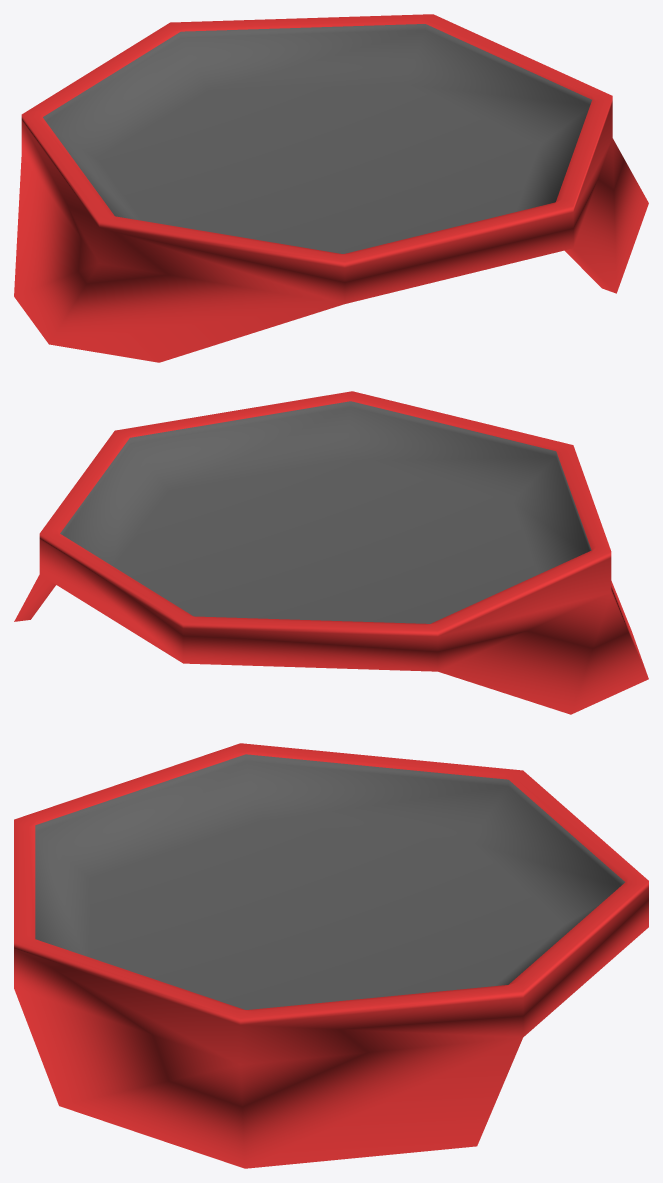
File: Batut.fbx
3 renders of one model, top to bottom at view 1: azimuth 30°, elevation 25°; view 2: azimuth 150°, elevation 25°; view 3: azimuth 270°, elevation 25°, orthographic. The views are drawn at different scales.
Visible parts, largest first — view 1: Cylinder; view 2: Cylinder; view 3: Cylinder.
Boxes of the visible parts, x1,y1,x2,y2 form: Cylinder: [14, 14, 648, 362]; Cylinder: [14, 391, 648, 714]; Cylinder: [14, 743, 648, 1168].
Size of the model in its own units: 141 by 26.66 by 118.
